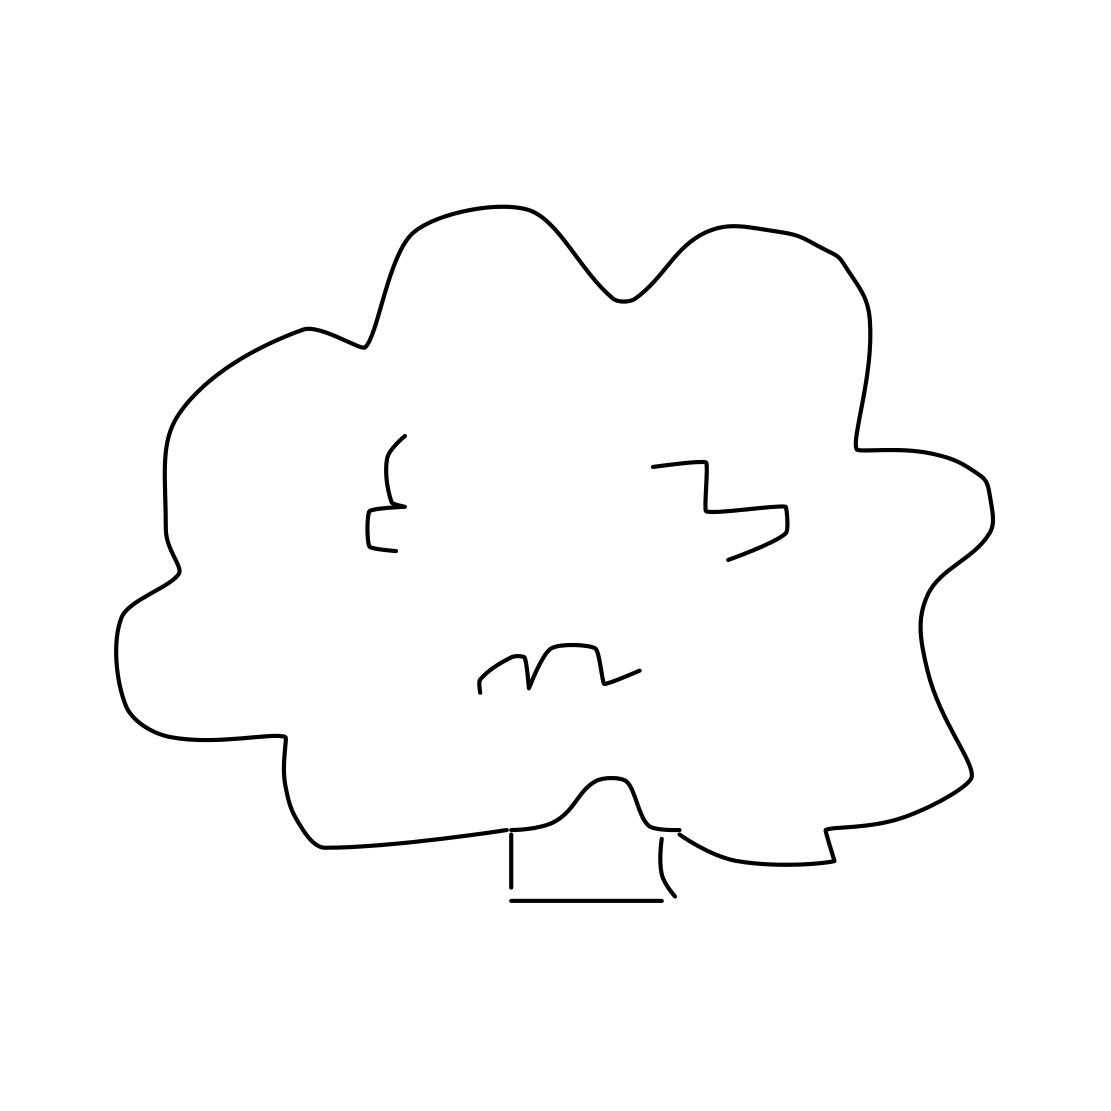Tree: (105, 184, 1002, 916)
